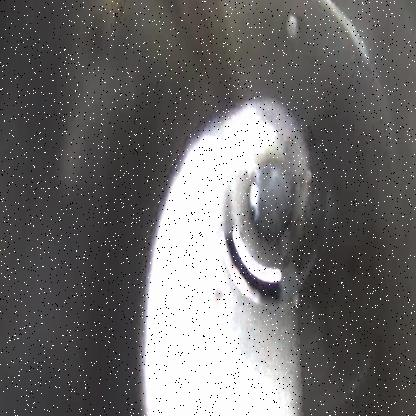Crack2: (222, 231, 281, 309)
